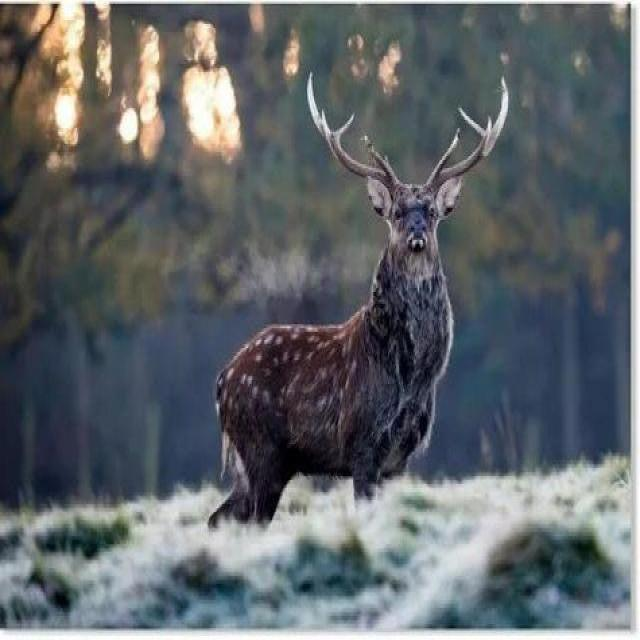deer: (178, 36, 516, 564)
